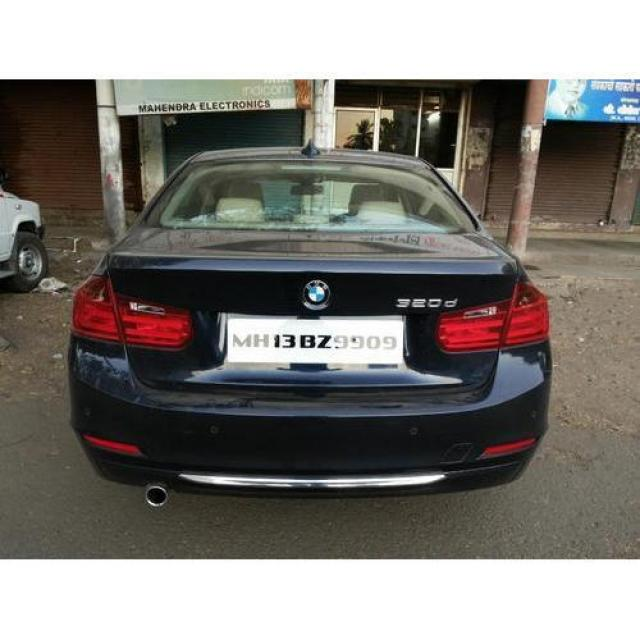Number-Plate: (230, 319, 404, 362)
